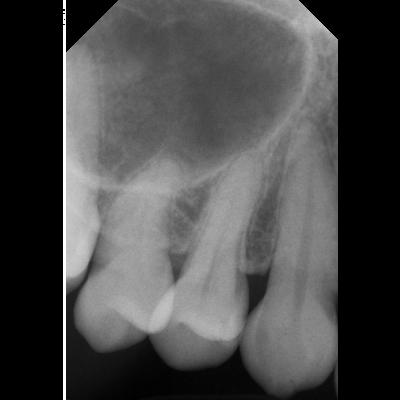tooth: (240, 113, 336, 399), (148, 150, 266, 372), (72, 155, 182, 355)
